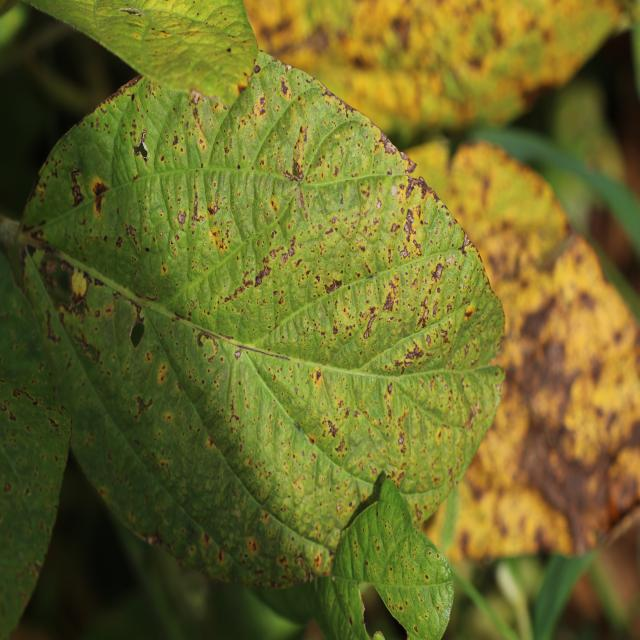Bacterial_Blight: (59, 303, 106, 368), (372, 271, 404, 321), (121, 299, 149, 351), (274, 227, 306, 271), (422, 546, 452, 584), (431, 586, 454, 632), (131, 266, 160, 302), (290, 126, 309, 179), (0, 210, 23, 252), (370, 469, 393, 499), (69, 167, 86, 207), (227, 384, 243, 426), (91, 180, 110, 215), (378, 129, 402, 156), (44, 307, 61, 345), (197, 332, 219, 361), (405, 174, 429, 200), (209, 225, 229, 254), (42, 256, 62, 285), (402, 209, 417, 246), (132, 394, 153, 419), (251, 262, 271, 288), (296, 555, 315, 582), (133, 133, 149, 161), (363, 312, 378, 340), (403, 342, 423, 363), (359, 591, 368, 632), (463, 404, 477, 430), (417, 305, 430, 329), (324, 419, 339, 439), (123, 220, 138, 240), (191, 192, 201, 221), (331, 573, 353, 586), (325, 278, 342, 294), (145, 531, 162, 547), (432, 263, 444, 281), (312, 368, 323, 386), (397, 431, 406, 452), (280, 78, 290, 96), (177, 210, 187, 226), (208, 202, 219, 216), (293, 421, 304, 435), (464, 306, 475, 320), (371, 630, 386, 639), (191, 92, 201, 105), (247, 539, 257, 552), (162, 412, 173, 423), (390, 184, 399, 197), (115, 236, 123, 248), (386, 382, 393, 395), (375, 198, 382, 211), (253, 63, 261, 74), (172, 134, 179, 146), (234, 349, 242, 359), (162, 264, 168, 274), (94, 309, 100, 318), (348, 616, 353, 626), (413, 625, 419, 633), (294, 386, 299, 394), (424, 573, 429, 581), (436, 552, 441, 560), (331, 575, 336, 583), (226, 47, 232, 53), (376, 545, 380, 552), (389, 566, 393, 573)
Soybean: (23, 53, 504, 585)
